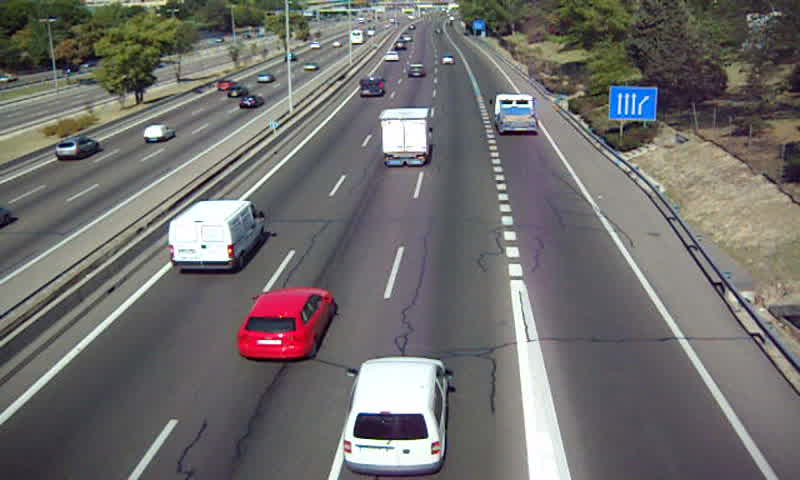car: (342, 356, 447, 472), (237, 288, 332, 361), (406, 62, 426, 79), (440, 54, 457, 67), (383, 50, 399, 63)
small-truck: (380, 108, 431, 167), (493, 93, 538, 132)
van: (170, 200, 264, 273), (357, 74, 386, 99)
